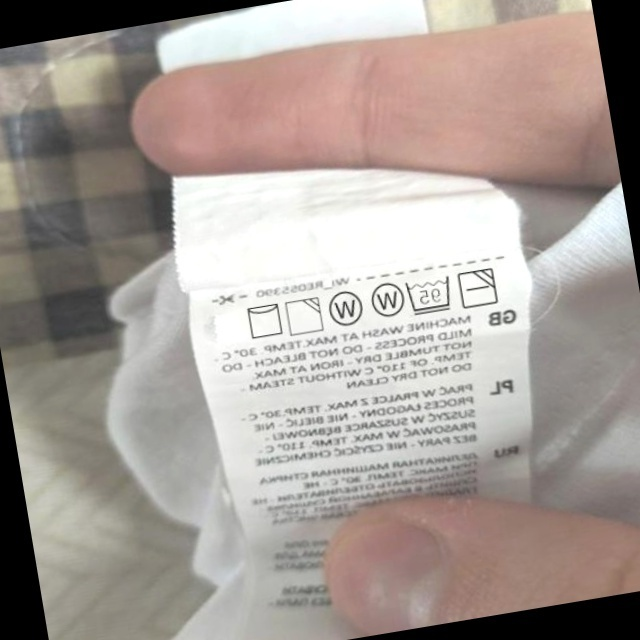95C: (403, 272, 456, 317)
dry_flat_in_shade: (456, 264, 501, 311)
line_dry: (241, 298, 286, 342)
shade_dry: (282, 294, 326, 338)
wet_clean: (325, 287, 367, 331), (365, 276, 406, 321)
